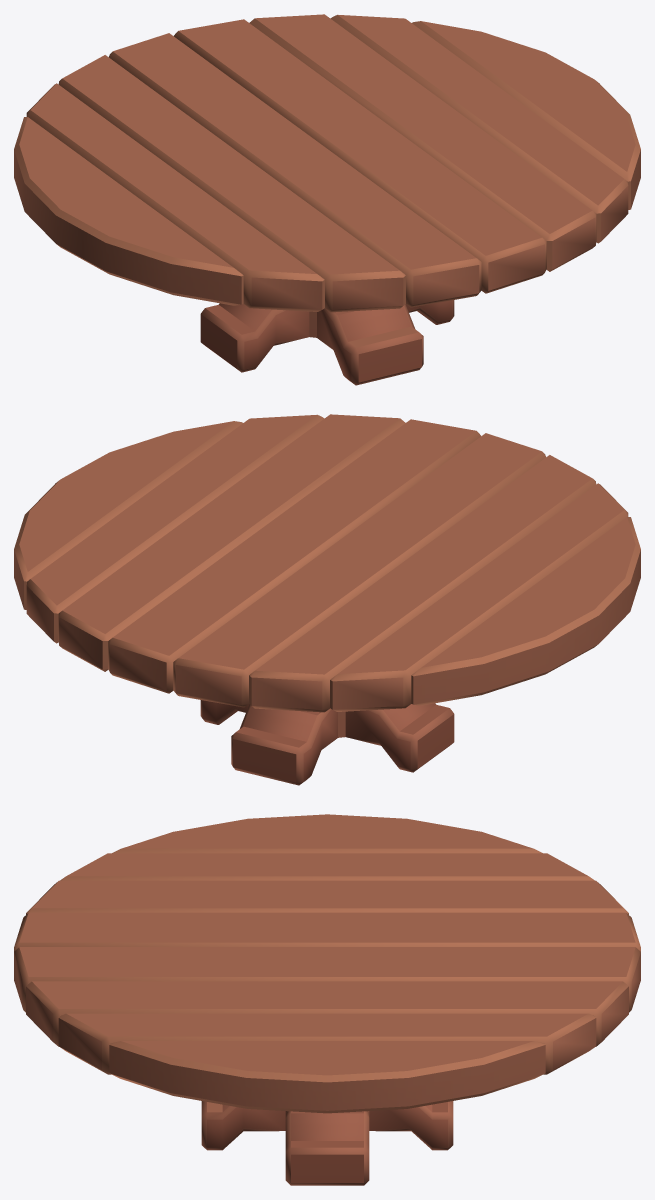
Rendered from table_round_large.glb.
3 views of the same model, one above another, from view 1: azimuth 30°, elevation 25°; view 2: azimuth 150°, elevation 25°; view 3: azimuth 270°, elevation 25° (orthographic).
Parts seen in each view (by area): view 1: table_round_large; view 2: table_round_large; view 3: table_round_large.
Boxes of the visible parts, box(x1,y1,x2,y2) form: table_round_large: box(14, 14, 640, 385); table_round_large: box(14, 414, 640, 785); table_round_large: box(14, 814, 640, 1185).
Size of the model in its own units: 3 by 1 by 2.99.
Materials: 1 (1 with a texture image).
